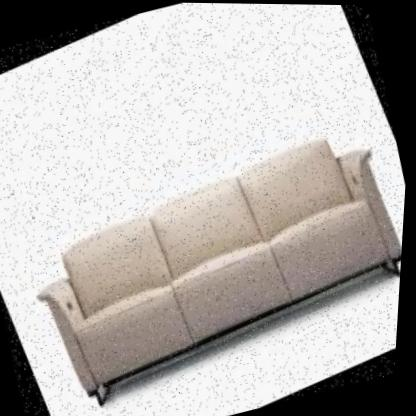Sofa: (0, 75, 413, 416)
